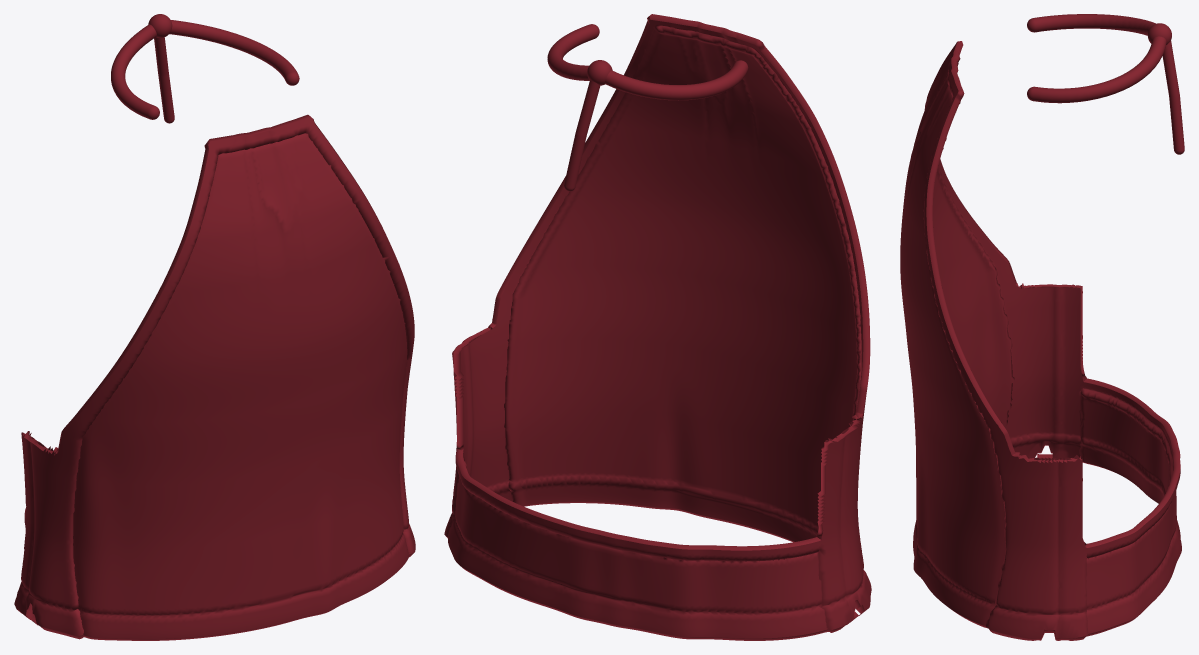
Rendered from 07_top_halter.glb.
3 views of the same model, side by side, from view 1: azimuth 30°, elevation 25°; view 2: azimuth 150°, elevation 25°; view 3: azimuth 270°, elevation 25° (orthographic). The views are drawn at different scales.
Parts seen in each view (by area): view 1: body, trim; view 2: body, trim; view 3: body, trim.
Part boxes in pixels (left/top/right/bottom): body: left=14, top=114, right=415, bottom=640; trim: left=111, top=14, right=299, bottom=123; body: left=444, top=14, right=871, bottom=640; trim: left=547, top=24, right=748, bottom=191; body: left=900, top=41, right=1181, bottom=640; trim: left=1027, top=14, right=1184, bottom=154.
Bounding box in the file's own units: 0.3587 × 0.4782 × 0.2342.
